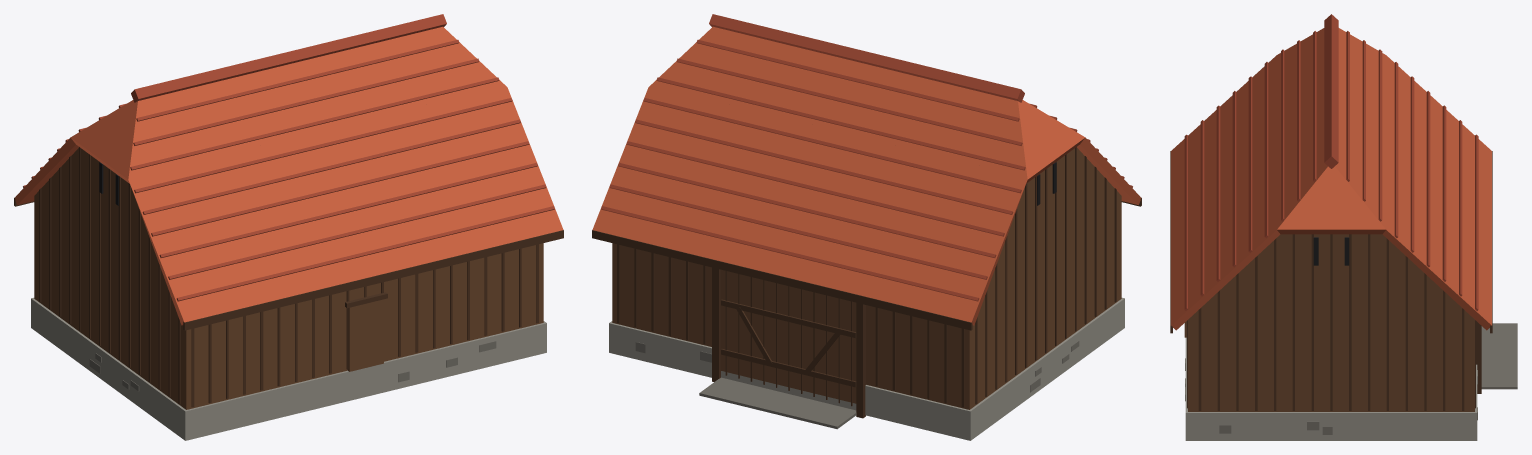
File: building_storage_barn_eu.glb
3 views of the same model, side by side, from view 1: azimuth 30°, elevation 25°; view 2: azimuth 150°, elevation 25°; view 3: azimuth 270°, elevation 25° (orthographic). The views are drawn at different scales.
Visible parts, largest first — view 1: building_storage_barn_eu.001; view 2: building_storage_barn_eu.001; view 3: building_storage_barn_eu.001.
Boxes of the visible parts, <box> form: building_storage_barn_eu.001: <box>14,14,563,440</box>; building_storage_barn_eu.001: <box>592,14,1141,440</box>; building_storage_barn_eu.001: <box>1170,14,1517,440</box>.
Size of the model in its own units: 12.1 by 8.85 by 10.17.
Materials: 1 (1 with a texture image).
